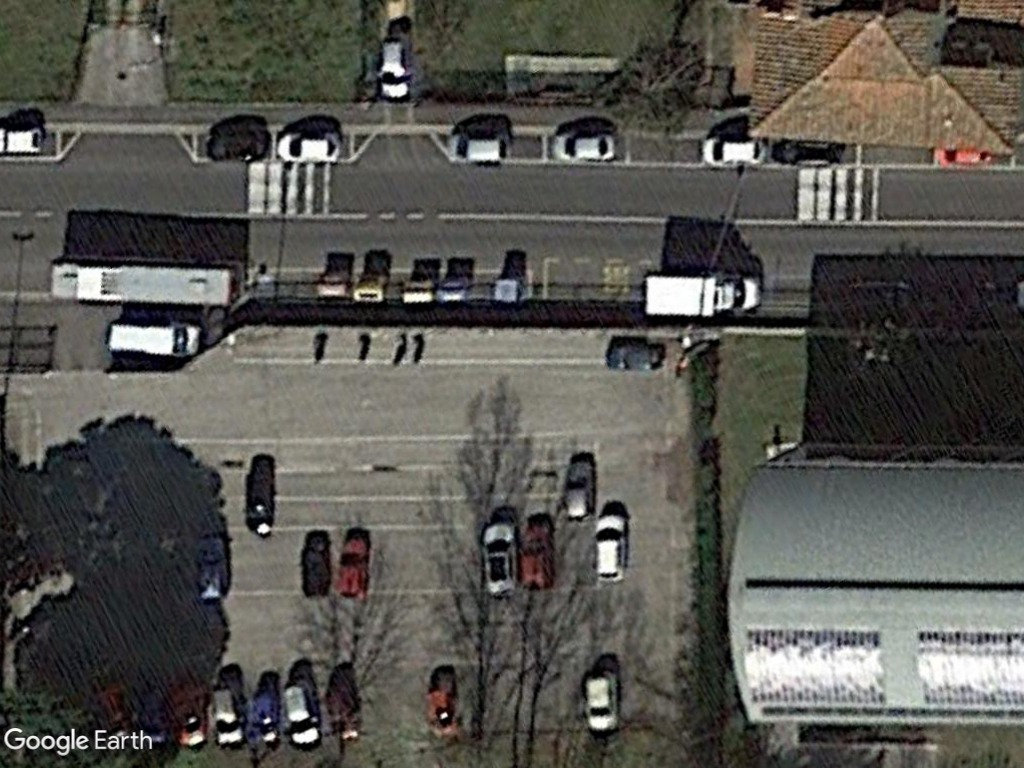bus: (44, 254, 252, 310)
car: (479, 516, 521, 597), (589, 509, 631, 584), (279, 680, 322, 751), (518, 514, 554, 592), (273, 127, 346, 164), (582, 668, 623, 733), (698, 132, 771, 168), (335, 527, 371, 600), (549, 128, 619, 165), (205, 685, 245, 749), (444, 132, 516, 165), (378, 33, 411, 100), (564, 459, 596, 522), (604, 341, 669, 372)
truck: (640, 266, 765, 325)
van: (105, 317, 203, 360)
